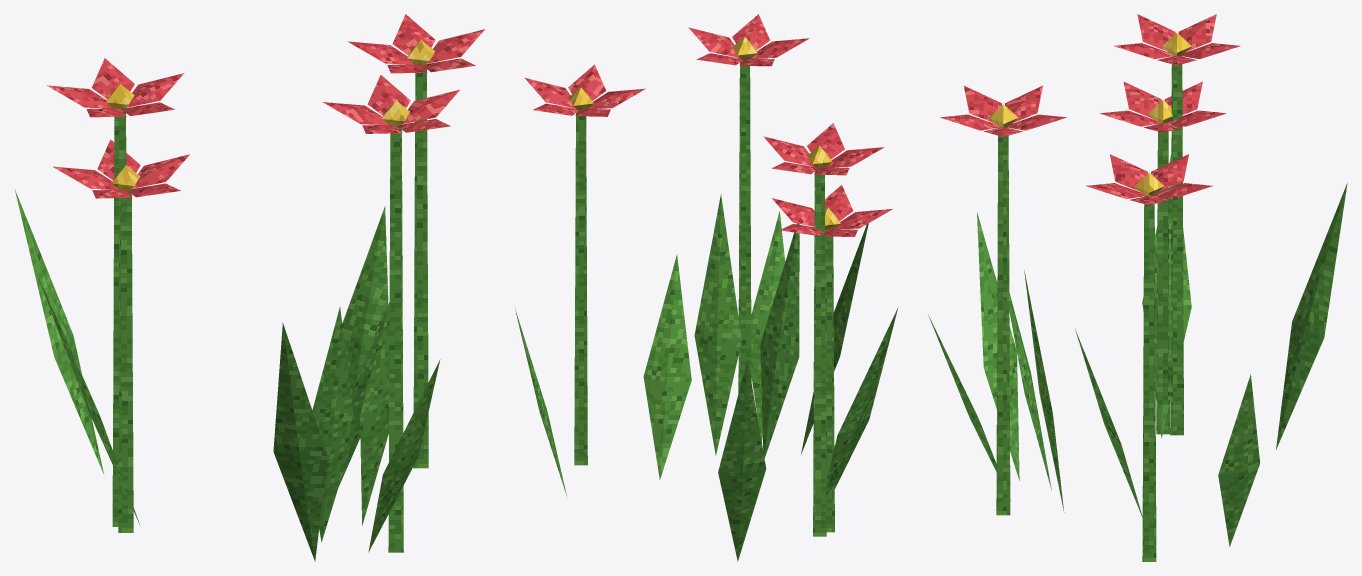
File: flowers_red.glb
The picture shows the model from 3 angles, left to right: view 1: azimuth 30°, elevation 25°; view 2: azimuth 150°, elevation 25°; view 3: azimuth 270°, elevation 25°; orthographic projection. The views are drawn at different scales.
Parts seen in each view (by area): view 1: Body.025; view 2: Body.025; view 3: Body.025.
Boxes of the visible parts, x1,y1,x2,y2 form: Body.025: (14,14,484,561); Body.025: (514,14,898,561); Body.025: (928,14,1347,561).
Bounding box in the file's own units: 0.4555 × 0.4483 × 0.4171.
3 materials, 3 textured.
